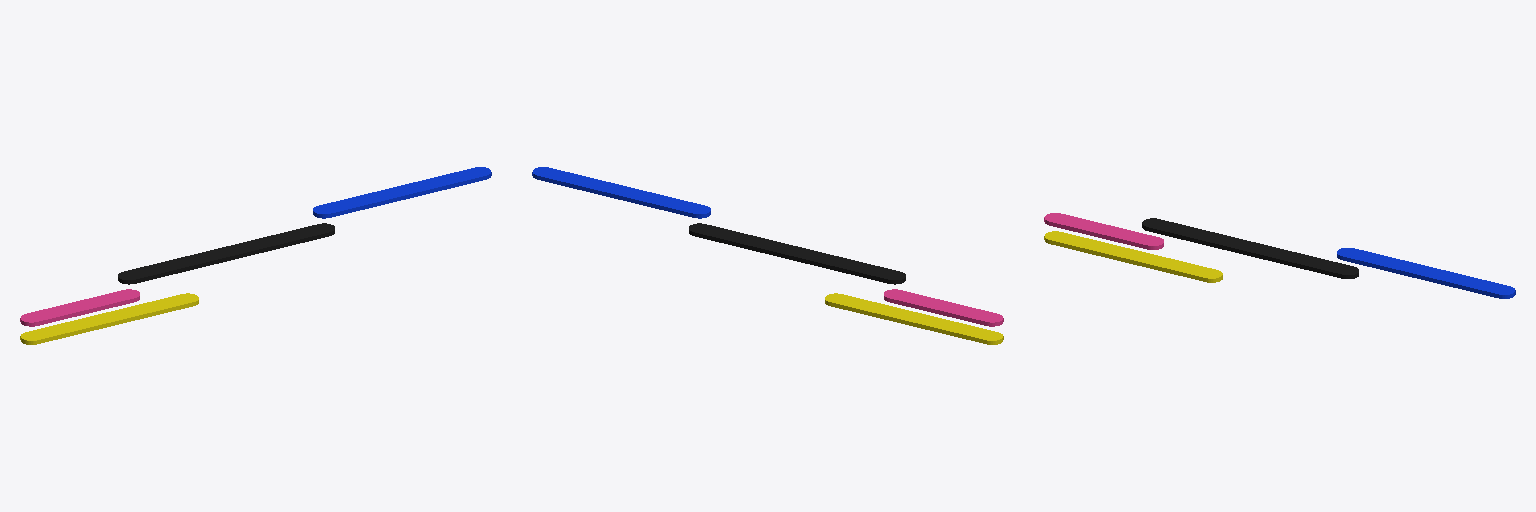
URDF robot description (four_bar_linkage):
<?xml version="1.0" encoding="UTF-8"?>
<!--
  Four-Bar Linkage URDF
  Crank-Rocker-Rocker Configuration
  
  Dimensions:
    Ground (L1): 80mm = 0.08m
    Crank  (L2): 50mm = 0.05m
    Coupler(L3): 100mm = 0.10m
    Rocker (L4): 80mm = 0.08m
  
  Colors mapping requested by user:
    Ground  = Yellow
    Crank   = Pink
    Coupler = Black
    Rocker  = Blue
-->
<robot name="four_bar_linkage">

  <!-- ==================== MATERIALS ==================== -->
  <material name="yellow">
    <color rgba="0.9 0.85 0.1 1.0"/>
  </material>
  <material name="pink">
    <color rgba="0.9 0.3 0.6 1.0"/>
  </material>
  <material name="black">
    <color rgba="0.15 0.15 0.15 1.0"/>
  </material>
  <material name="blue">
    <color rgba="0.1 0.3 0.9 1.0"/>
  </material>

  <!-- ==================== BASE LINK ==================== -->
  <link name="base_link">
    <visual>
      <geometry>
        <sphere radius="0.001"/>
      </geometry>
    </visual>
  </link>

  <!-- ==================== GROUND LINK (L1 = 80mm) - YELLOW ==================== -->
  <link name="ground_link">
    <visual>
      <origin xyz="0 0.02 0" rpy="0 0 0"/>
      <geometry>
        <mesh filename="package://four_bar_linkage/meshes/Component1_Component2.stl" scale="0.001 0.001 0.001"/>
      </geometry>
      <material name="yellow"/>
    </visual>
    <inertial>
      <origin xyz="0.04 0 0"/>
      <mass value="0.1"/>
      <inertia ixx="1e-6" ixy="0" ixz="0" iyy="1e-6" iyz="0" izz="1e-6"/>
    </inertial>
  </link>

  <joint name="fixed_base" type="fixed">
    <parent link="base_link"/>
    <child link="ground_link"/>
    <origin xyz="0 0 0" rpy="0 0 0"/>
  </joint>

  <!-- ==================== CRANK LINK (L2 = 50mm) - PINK ==================== -->
  <link name="crank_link">
    <visual>
      <origin xyz="0 0 0" rpy="0 0 0"/>
      <geometry>
        <mesh filename="package://four_bar_linkage/meshes/Component1_Component4.stl" scale="0.001 0.001 0.001"/>
      </geometry>
      <material name="pink"/>
    </visual>
    <inertial>
      <origin xyz="0.025 0 0"/>
      <mass value="0.05"/>
      <inertia ixx="1e-6" ixy="0" ixz="0" iyy="1e-6" iyz="0" izz="1e-6"/>
    </inertial>
  </link>

  <joint name="joint_A" type="revolute">
    <parent link="ground_link"/>
    <child link="crank_link"/>
    <origin xyz="0 0 0.009" rpy="0 0 0"/>
    <axis xyz="0 0 1"/>
    <limit lower="-3.14159" upper="3.14159" effort="10" velocity="3.14"/>
  </joint>

  <!-- ==================== COUPLER LINK (L3 = 100mm) - BLACK ==================== -->
  <link name="coupler_link">
    <visual>
      <origin xyz="0 0.06 0" rpy="0 0 0"/>
      <geometry>
        <mesh filename="package://four_bar_linkage/meshes/Component1_Component5.stl" scale="0.001 0.001 0.001"/>
      </geometry>
      <material name="black"/>
    </visual>
    <inertial>
      <origin xyz="0.05 0 0"/>
      <mass value="0.08"/>
      <inertia ixx="1e-6" ixy="0" ixz="0" iyy="1e-6" iyz="0" izz="1e-6"/>
    </inertial>
  </link>

  <joint name="joint_B" type="revolute">
    <parent link="crank_link"/>
    <child link="coupler_link"/>
    <origin xyz="0.05 0 0.009" rpy="0 0 0"/>
    <axis xyz="0 0 1"/>
    <limit lower="-3.14159" upper="3.14159" effort="10" velocity="3.14"/>
  </joint>

  <!-- ==================== ROCKER LINK (L4 = 80mm) - BLUE ==================== -->
  <link name="rocker_link">
    <visual>
      <origin xyz="0 0.04 0" rpy="0 0 0"/>
      <geometry>
        <mesh filename="package://four_bar_linkage/meshes/Component1_Component3.stl" scale="0.001 0.001 0.001"/>
      </geometry>
      <material name="blue"/>
    </visual>
    <inertial>
      <origin xyz="0.04 0 0"/>
      <mass value="0.06"/>
      <inertia ixx="1e-6" ixy="0" ixz="0" iyy="1e-6" iyz="0" izz="1e-6"/>
    </inertial>
  </link>

  <joint name="joint_C" type="revolute">
    <parent link="coupler_link"/>
    <child link="rocker_link"/>
    <origin xyz="0.10 0 0.009" rpy="0 0 0"/>
    <axis xyz="0 0 1"/>
    <limit lower="-3.14159" upper="3.14159" effort="10" velocity="3.14"/>
  </joint>

</robot>

--- Render facts (derived) ---
3 views of the same robot in one strip: view 1: azimuth 30°, elevation 25°; view 2: azimuth 150°, elevation 25°; view 3: azimuth 330°, elevation 25° (orthographic).
Model four_bar_linkage with 5 links and 4 joints (3 revolute, 1 fixed), rooted at base_link, posed every joint at zero.
Visible links, largest first — view 1: coupler_link, ground_link, rocker_link, crank_link; view 2: coupler_link, ground_link, rocker_link, crank_link; view 3: coupler_link, ground_link, rocker_link, crank_link.
Link boxes in pixels (x1,y1,x2,y2): coupler_link: (118, 223, 334, 284); ground_link: (20, 293, 198, 344); rocker_link: (313, 167, 491, 218); crank_link: (20, 289, 139, 326); coupler_link: (689, 223, 905, 284); ground_link: (825, 293, 1003, 344); rocker_link: (532, 167, 710, 218); crank_link: (884, 289, 1003, 326); coupler_link: (1142, 218, 1358, 278); ground_link: (1044, 231, 1222, 282); rocker_link: (1337, 248, 1515, 298); crank_link: (1044, 213, 1163, 249).
Bounding box of the posed robot: 0.24 × 0.01 × 0.03 m (x, y, z).
4 mesh visuals loaded from 4 distinct referenced files (4 binary STL).
